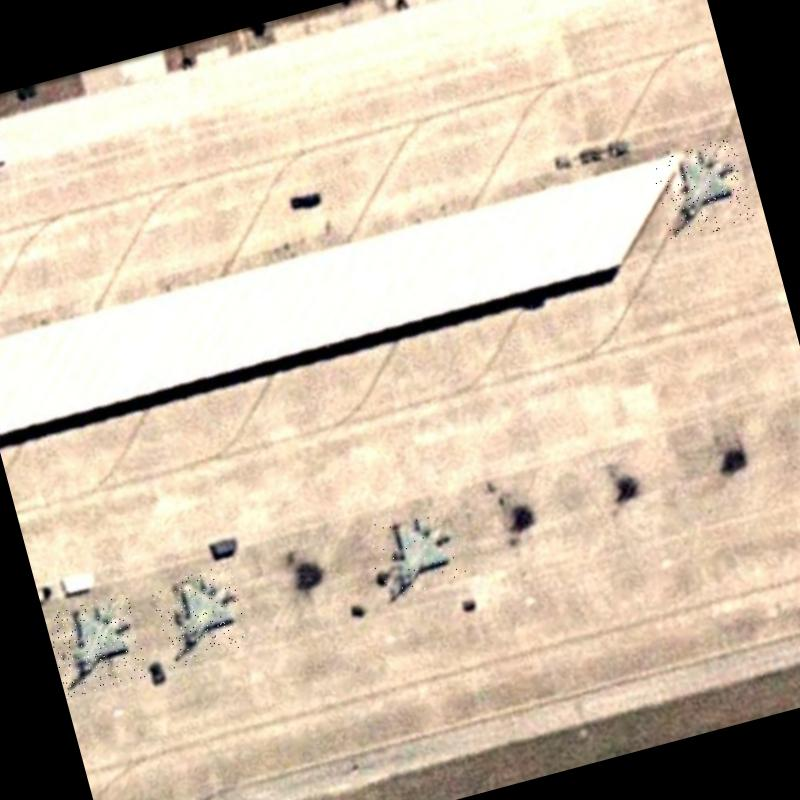A13: (648, 136, 754, 243), (44, 592, 150, 698), (363, 504, 471, 607), (149, 564, 252, 668)
